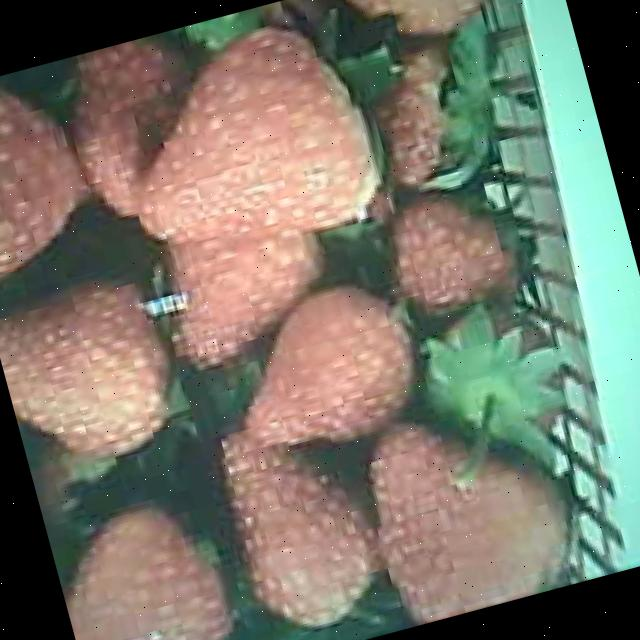strawberry: (104, 14, 383, 271), (353, 392, 580, 628), (212, 405, 398, 640), (0, 265, 184, 475), (223, 276, 427, 462), (46, 493, 242, 640)
